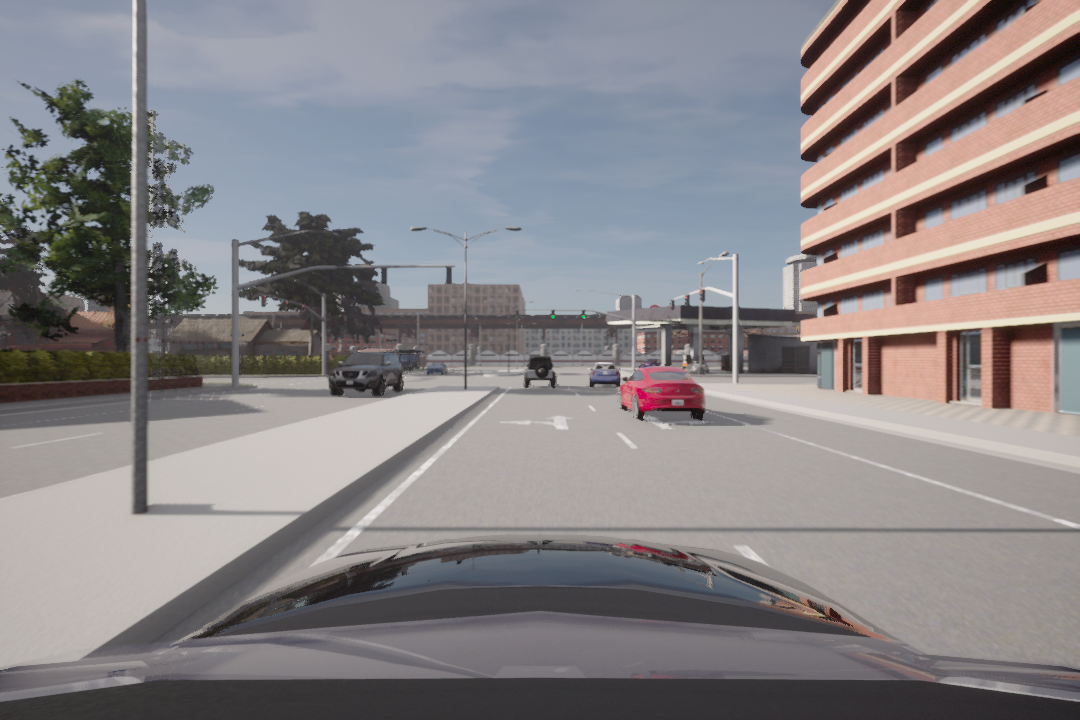RoadSign_forward_left: (497, 411, 576, 431)
